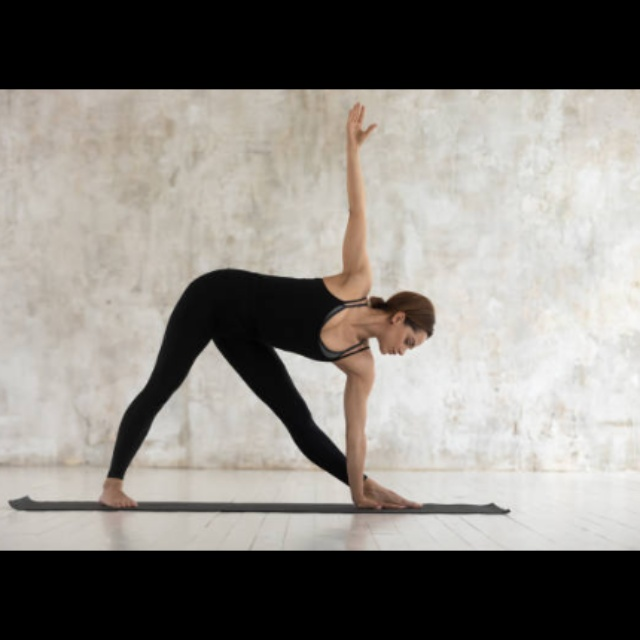Triangle_Pose: (79, 93, 438, 512)
